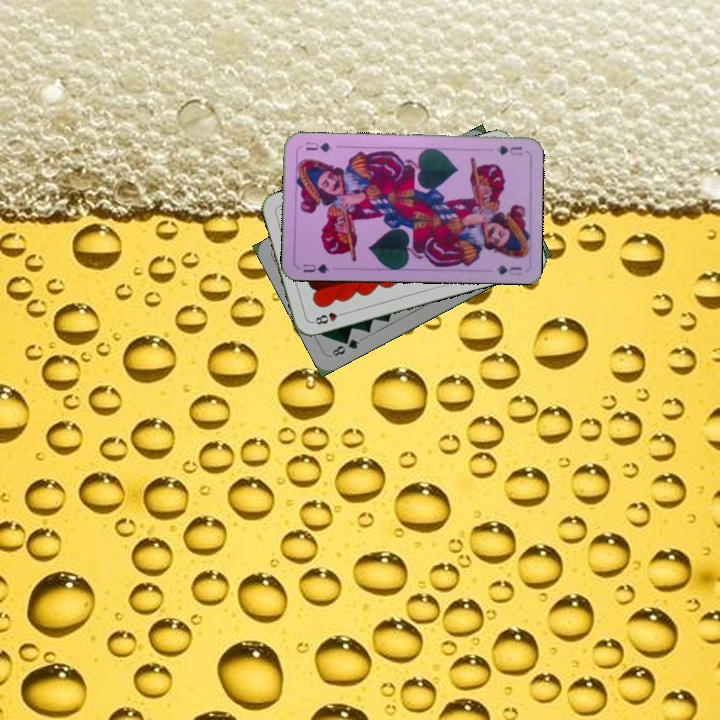G8: (328, 335, 362, 359)
GU: (299, 260, 332, 276), (493, 141, 524, 158)
H8: (309, 308, 348, 327)
